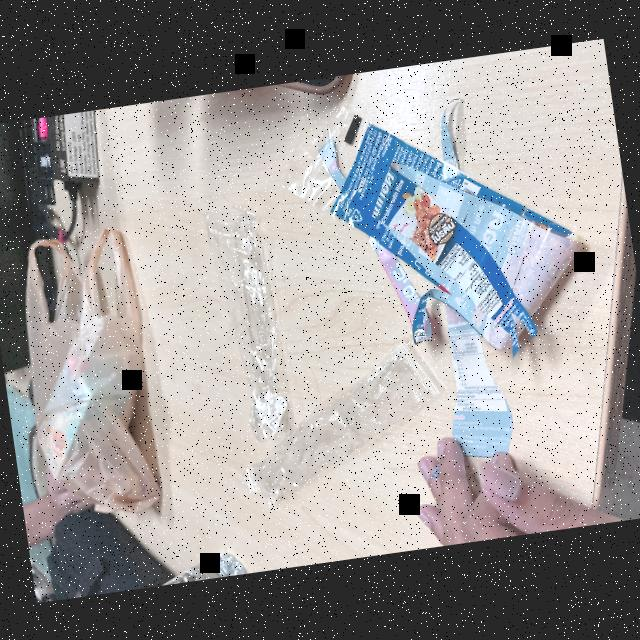scrap_plastic: (289, 79, 583, 371), (191, 190, 310, 437), (232, 348, 440, 488)
